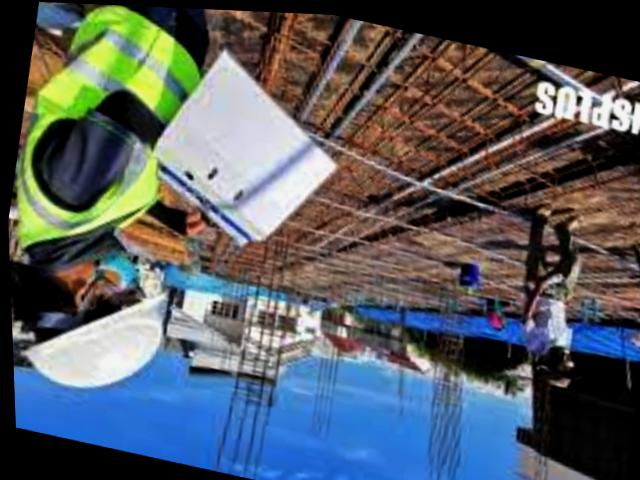helmet: (8, 259, 191, 411)
vest: (0, 0, 206, 268)
